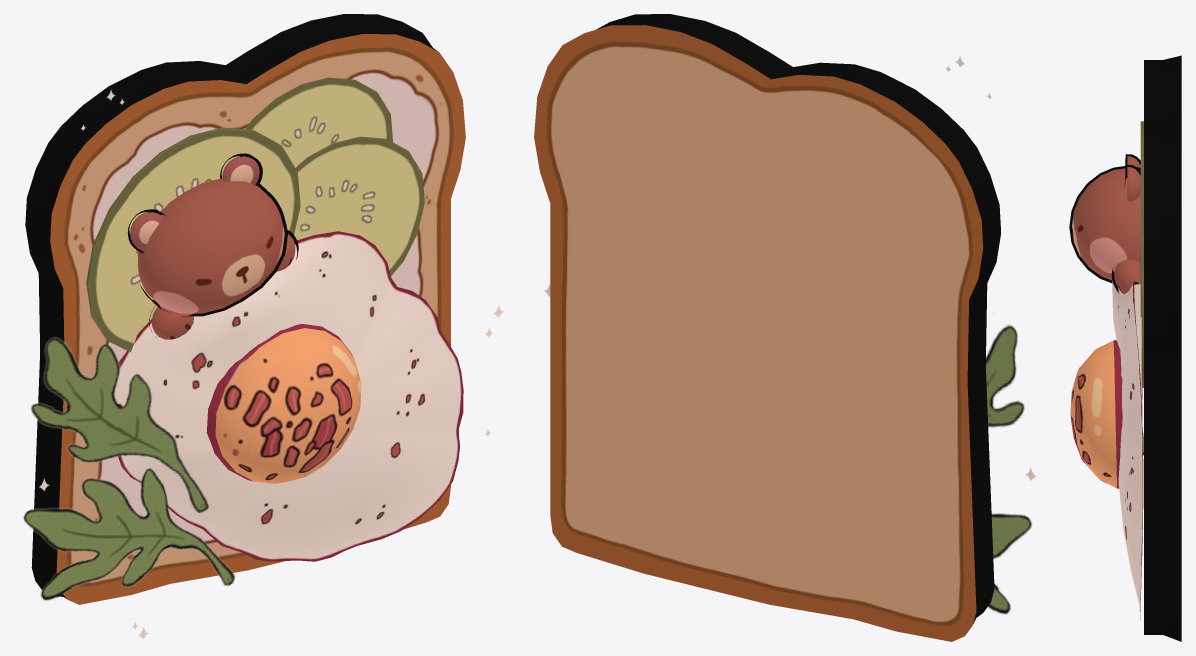
Rendered from toast_bear.glb.
3 views of the same model, side by side, from view 1: azimuth 30°, elevation 25°; view 2: azimuth 150°, elevation 25°; view 3: azimuth 270°, elevation 25° (orthographic). The views are drawn at different scales.
Visible parts, largest first — view 1: bearToast_Material #6_0, bearOutline__0; view 2: bearToast_Material #6_0; view 3: bearToast_Material #6_0, bearOutline__0.
Part boxes in pixels (x1,y1,x2,y2): bearToast_Material #6_0: (23,14,503,639); bearOutline__0: (127,153,298,337); bearToast_Material #6_0: (534,14,1035,641); bearToast_Material #6_0: (1070,55,1181,641); bearOutline__0: (1069,154,1140,293).
Size of the model in its own units: 1.97 by 2.19 by 0.4408.
Materials: 2 (2 with a texture image).
